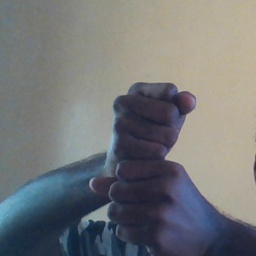G: (93, 76, 205, 252)
